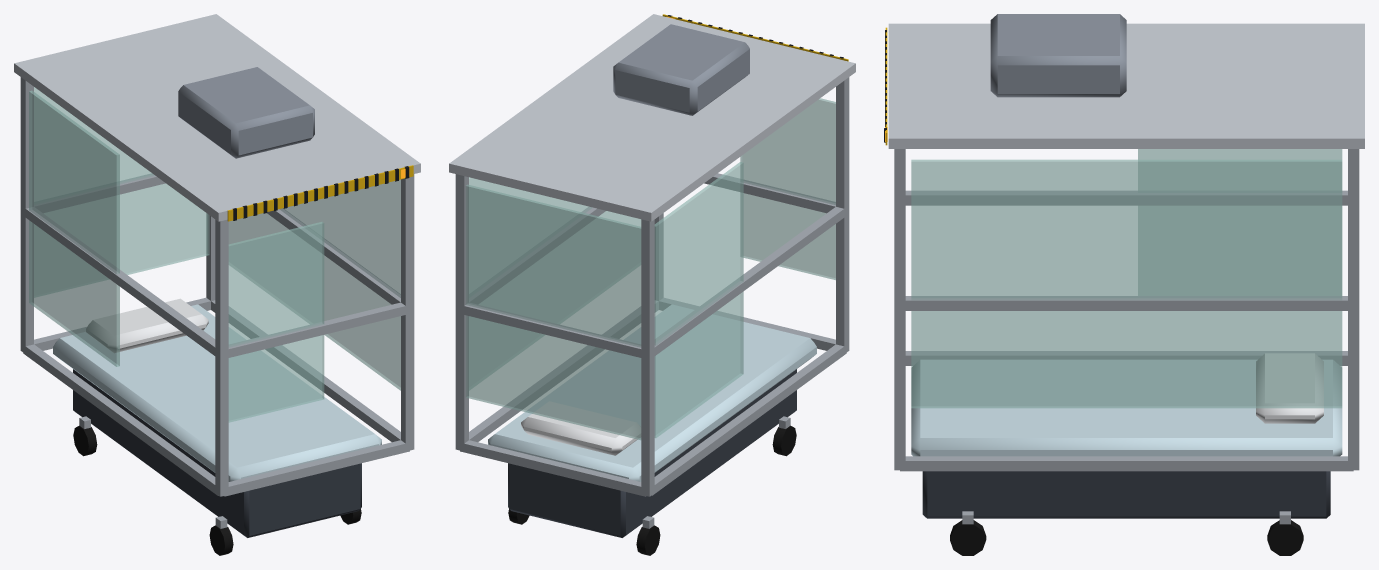
The model's file is medbed_isolation_bed.glb.
3 views of the same model, side by side, from view 1: azimuth 30°, elevation 25°; view 2: azimuth 150°, elevation 25°; view 3: azimuth 270°, elevation 25° (orthographic). The views are drawn at different scales.
Parts seen in each view (by area): view 1: medbed_isolation_bed; view 2: medbed_isolation_bed; view 3: medbed_isolation_bed.
Boxes of the visible parts, <box> form: medbed_isolation_bed: <box>14,14,420,555</box>; medbed_isolation_bed: <box>449,14,855,555</box>; medbed_isolation_bed: <box>884,14,1364,555</box>.
Size of the model in its own units: 1.2 by 2.35 by 2.12.
